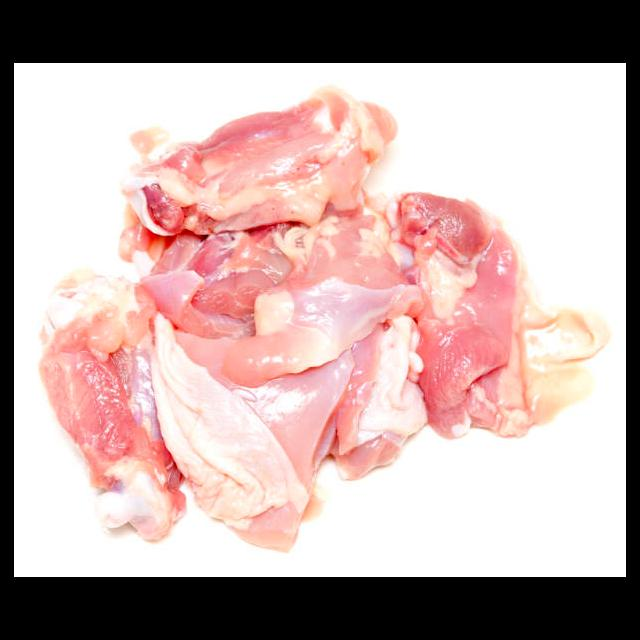chicken: (35, 85, 610, 552)
